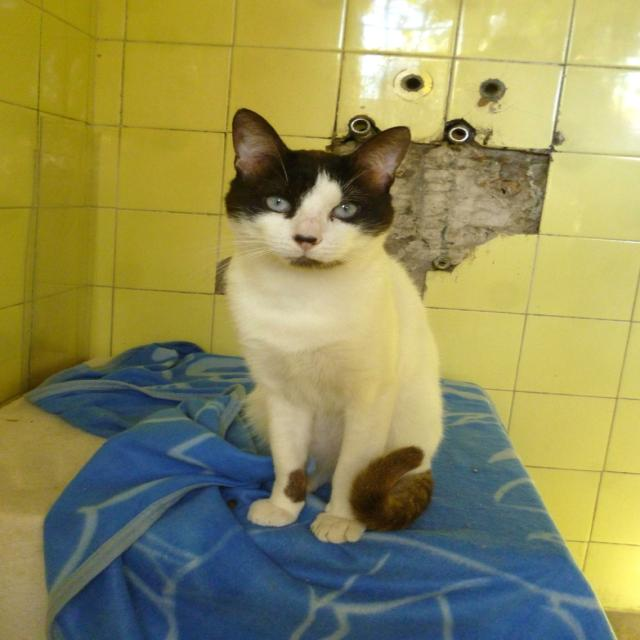Cat: (215, 105, 451, 544)
